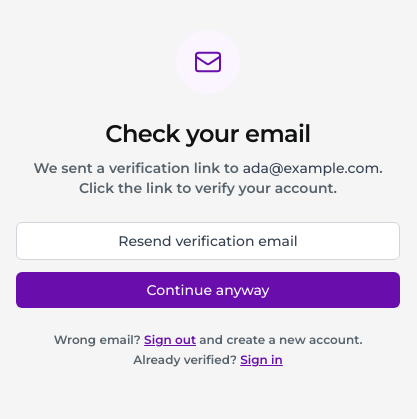
Test: VerifyEmailClient › sends the verification email and shows the success banner
Click the button "Resend verification email": (208, 241) [16,222,400,260]
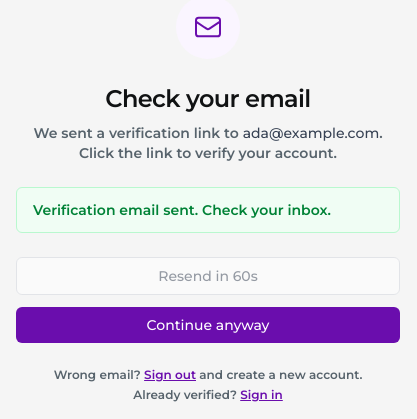
Expected: the text "Verification email sent. Check your inbox." is shown, [16,187,400,233]
